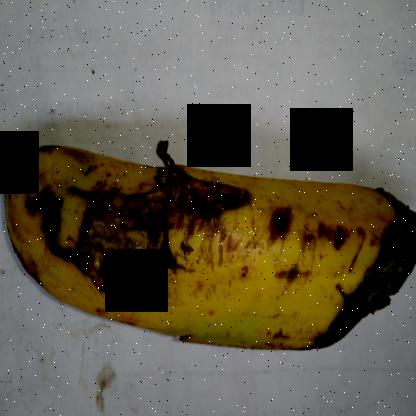rotten: (28, 143, 266, 281), (298, 176, 415, 383)
